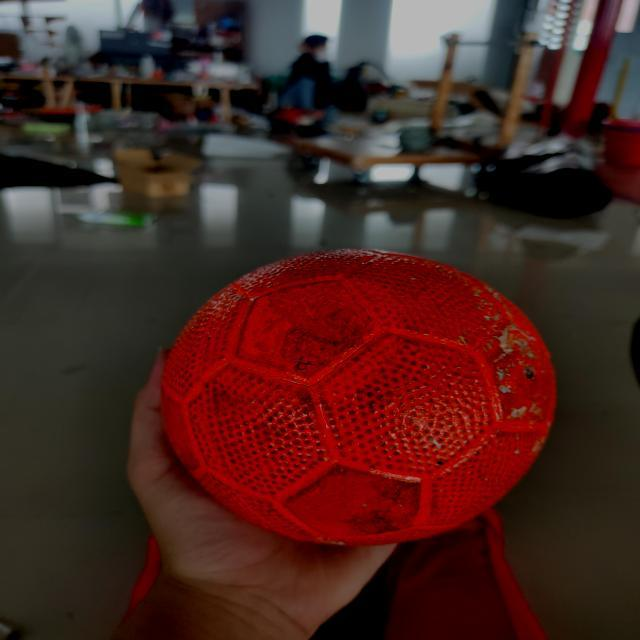bola: (138, 252, 577, 562)
